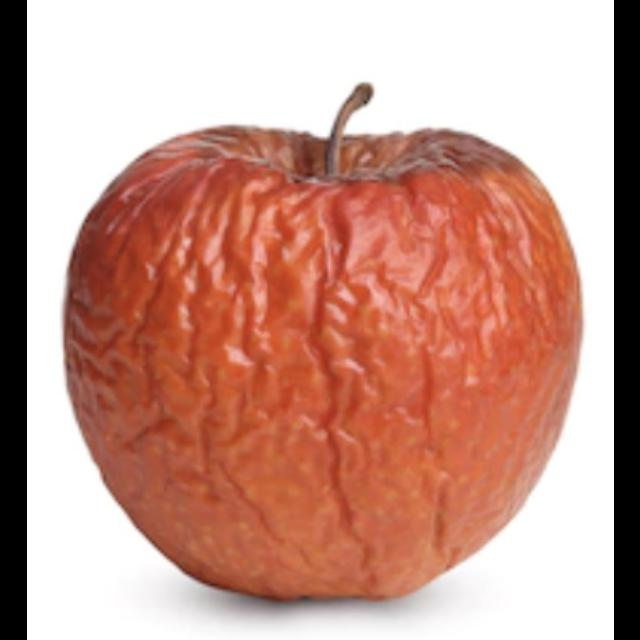Apel Tidak Segar: (52, 120, 591, 608)
